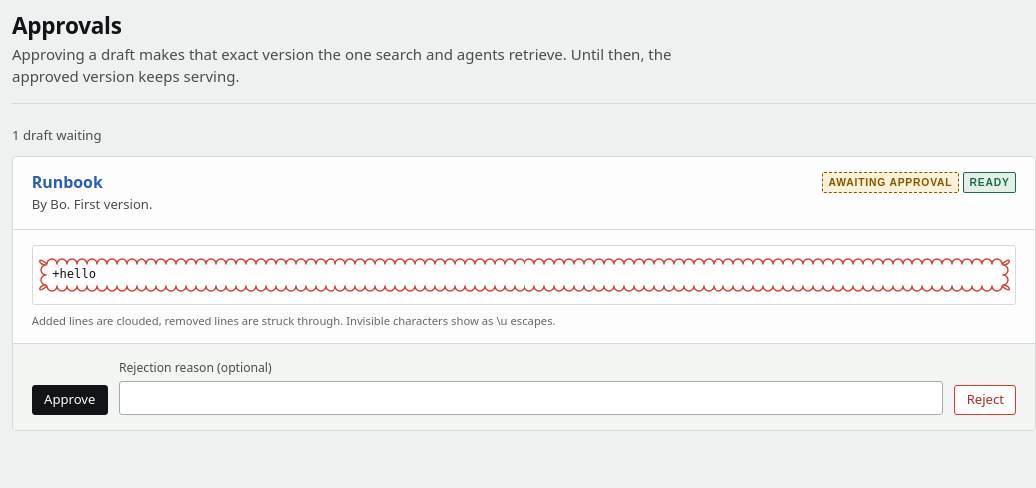
Test case: Approvals page › shows the readiness message on 409 DERIVATIONS_NOT_READY
Click the button "Approve".
click(70, 400)  # box [32,385,108,415]
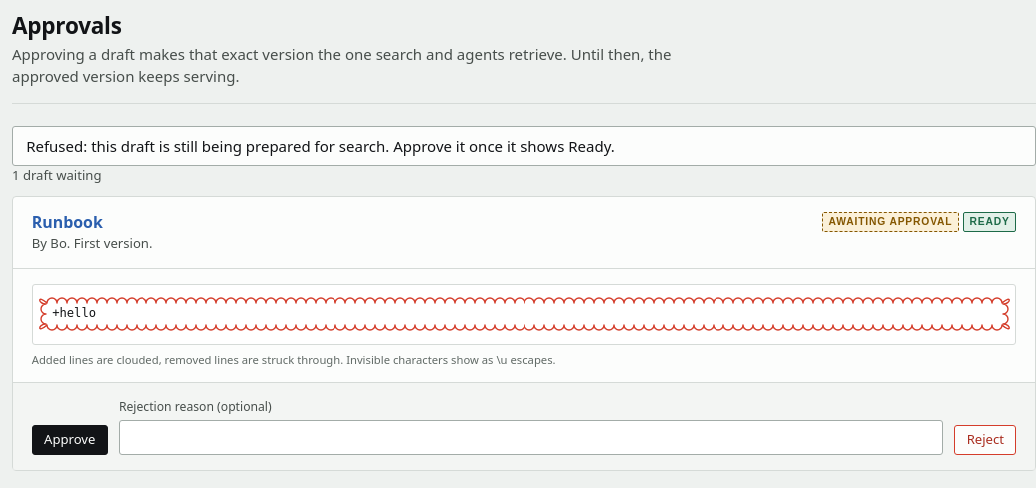
Expected: the text "Approve it once it shows Ready." is shown, [26,136,615,156]
